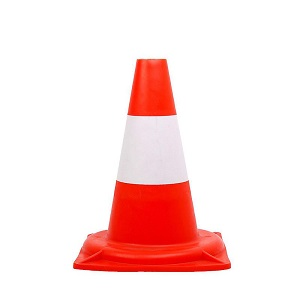traffic cone: (73, 58, 231, 272)
